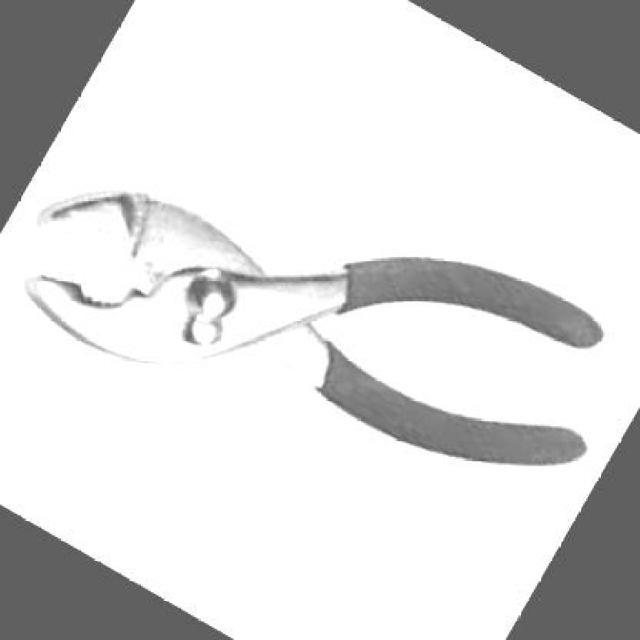pliers: (0, 32, 638, 627)
